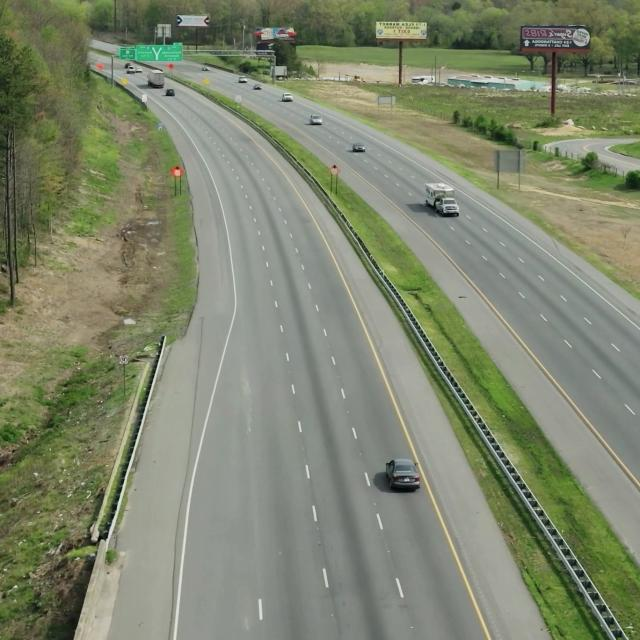Car: (422, 179, 463, 219), (384, 458, 417, 494)
